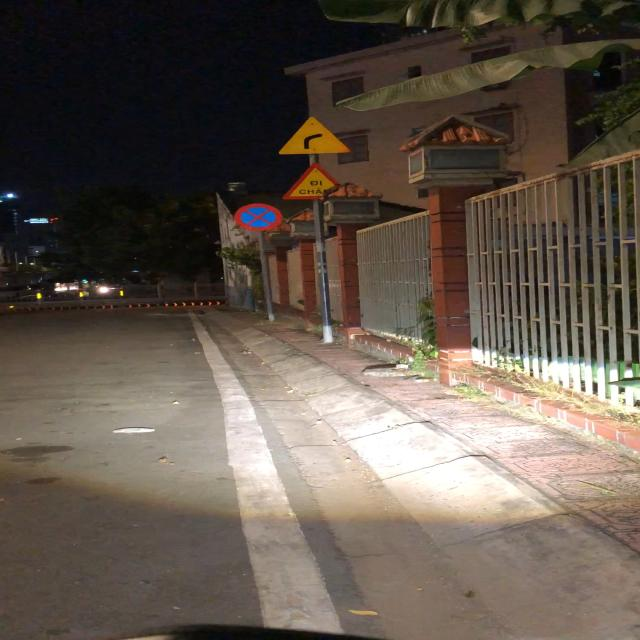Bien bao cam dung xe va do xe: (232, 201, 284, 233)
Bien bao cho ngoat nguy hiem: (277, 114, 353, 156)
Bien bao di cham: (281, 162, 353, 200)
